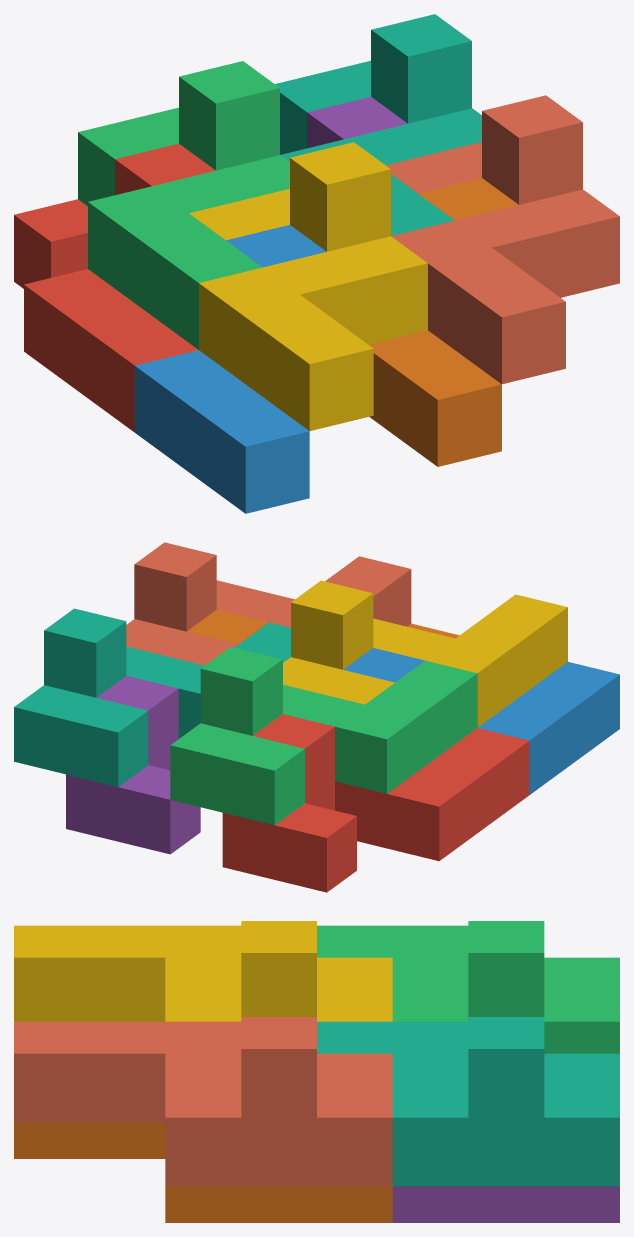
File: tiling.obj
The picture shows the model from 3 angles, top to bottom: view 1: azimuth 30°, elevation 25°; view 2: azimuth 150°, elevation 25°; view 3: azimuth 270°, elevation 25°; orthographic projection. The views are drawn at different scales.
Visible parts, largest first — view 1: copy_1_domain_4, copy_1_domain_8, copy_1_domain_3, copy_1_domain_1, copy_1_domain_2, copy_1_domain_7, copy_1_domain_6, copy_1_domain_5; view 2: copy_1_domain_3, copy_1_domain_1, copy_1_domain_7, copy_1_domain_4, copy_1_domain_8, copy_1_domain_5, copy_1_domain_2, copy_1_domain_6; view 3: copy_1_domain_8, copy_1_domain_7, copy_1_domain_4, copy_1_domain_3, copy_1_domain_6, copy_1_domain_5.
Part boxes in pixels (x1,y1,x2,y2): copy_1_domain_4: [189, 142, 427, 430]; copy_1_domain_8: [386, 95, 619, 384]; copy_1_domain_3: [78, 61, 289, 349]; copy_1_domain_1: [14, 143, 215, 432]; copy_1_domain_2: [134, 225, 326, 513]; copy_1_domain_7: [275, 14, 481, 235]; copy_1_domain_6: [369, 178, 518, 466]; copy_1_domain_5: [307, 97, 407, 148]; copy_1_domain_3: [170, 646, 477, 825]; copy_1_domain_1: [222, 714, 529, 892]; copy_1_domain_7: [14, 608, 290, 786]; copy_1_domain_4: [283, 580, 567, 727]; copy_1_domain_8: [126, 542, 411, 665]; copy_1_domain_5: [66, 676, 200, 854]; copy_1_domain_2: [343, 648, 619, 794]; copy_1_domain_6: [187, 609, 459, 644]; copy_1_domain_8: [14, 1017, 392, 1186]; copy_1_domain_7: [317, 1017, 619, 1186]; copy_1_domain_4: [14, 921, 392, 1021]; copy_1_domain_3: [317, 921, 619, 1053]; copy_1_domain_6: [14, 1122, 392, 1222]; copy_1_domain_5: [392, 1186, 619, 1222].
Bounding box in the file's own units: 7 × 3 × 8.
